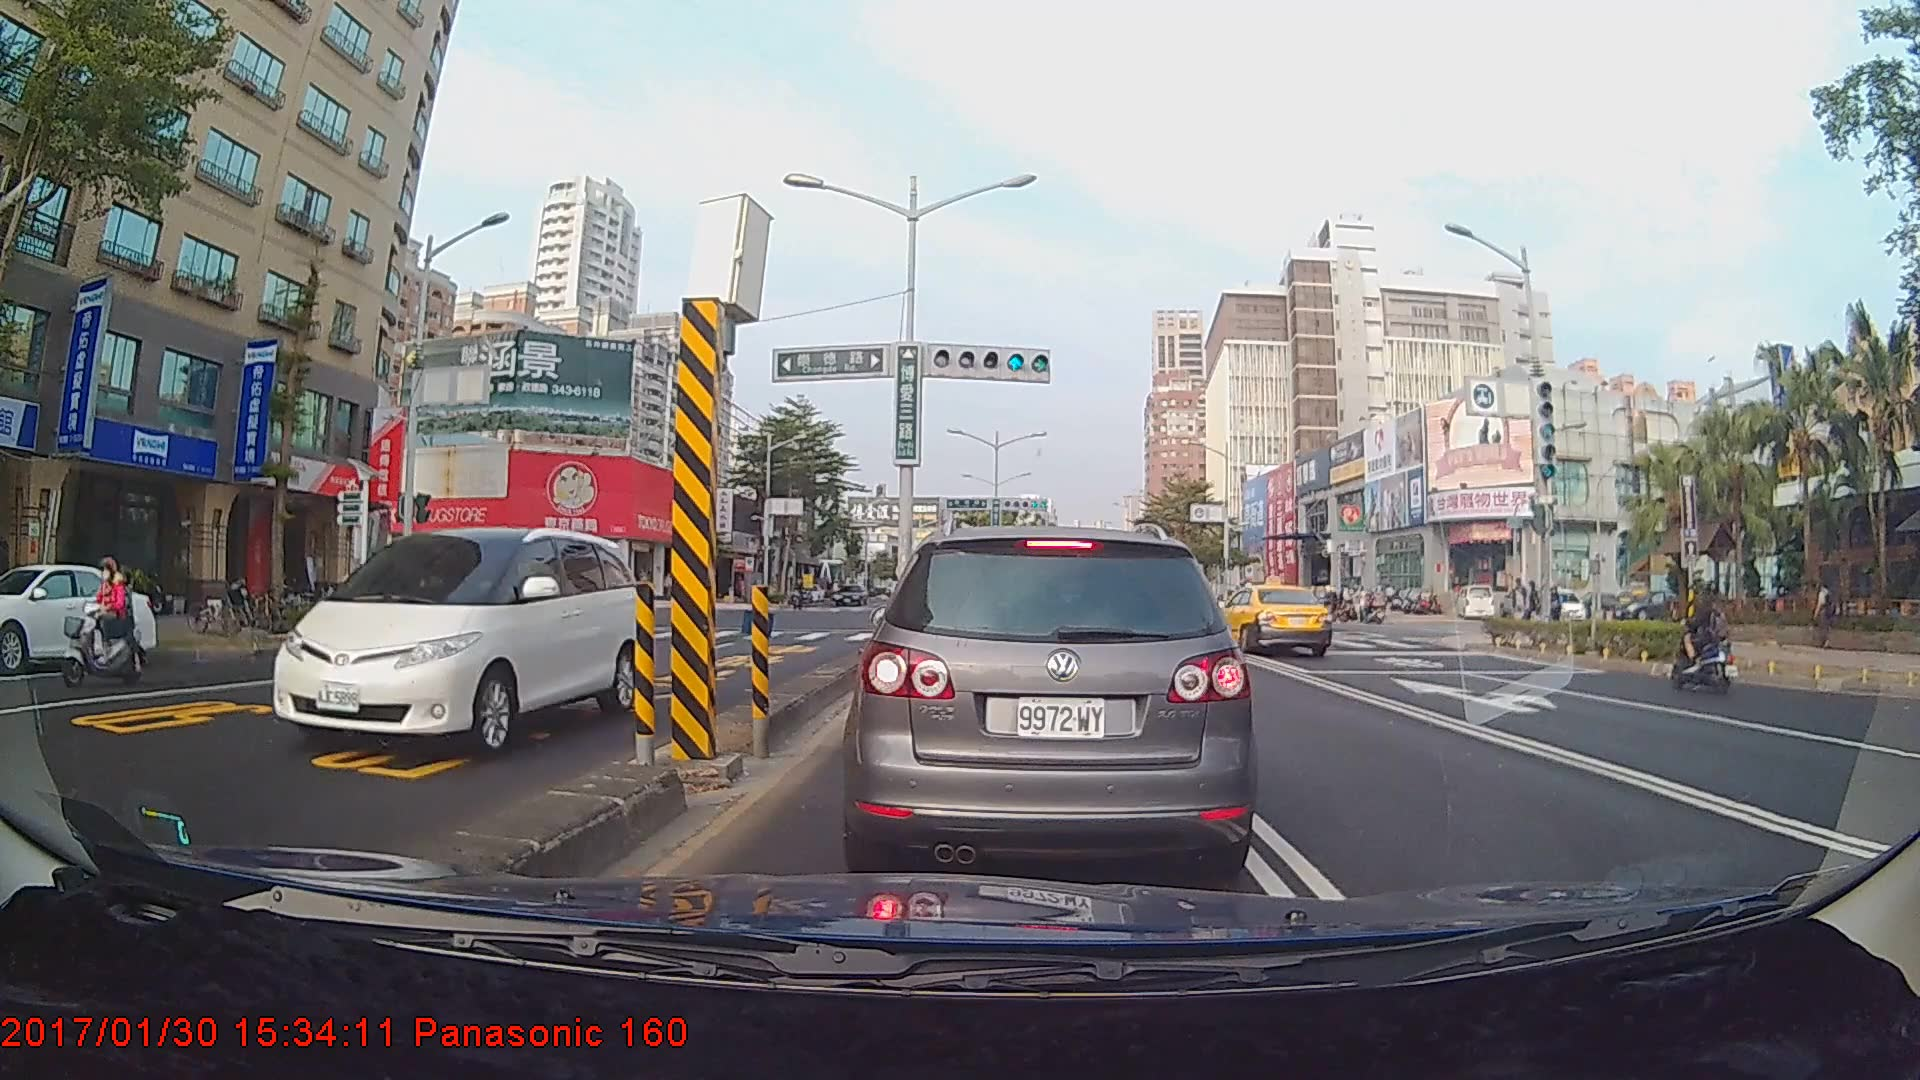pedestrian: (1813, 579, 1838, 648)
rider: (56, 557, 145, 693), (1666, 578, 1747, 699)
vehicle: (856, 521, 1246, 876), (268, 521, 651, 754), (0, 561, 158, 671), (1211, 581, 1333, 658)
